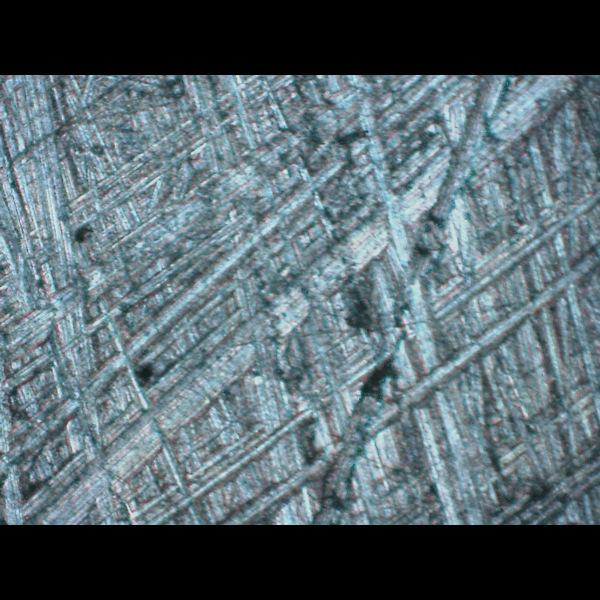d: (97, 83, 599, 525)
